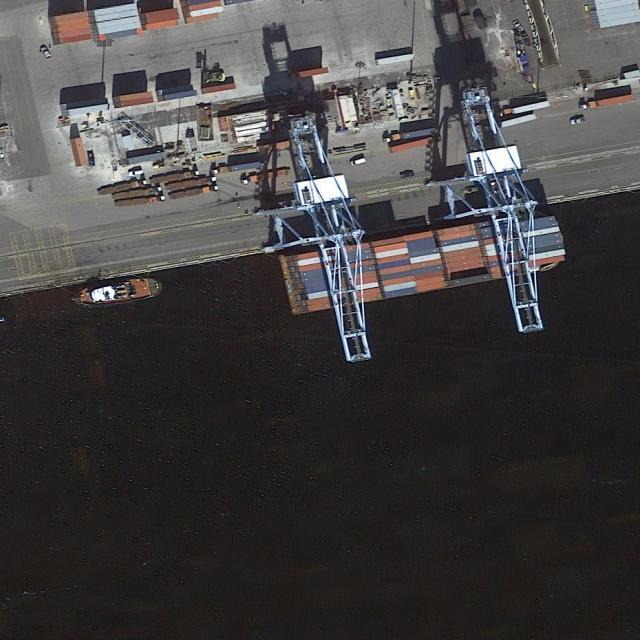Container Ship: (279, 207, 570, 316)
Other Ship: (72, 275, 166, 310)
